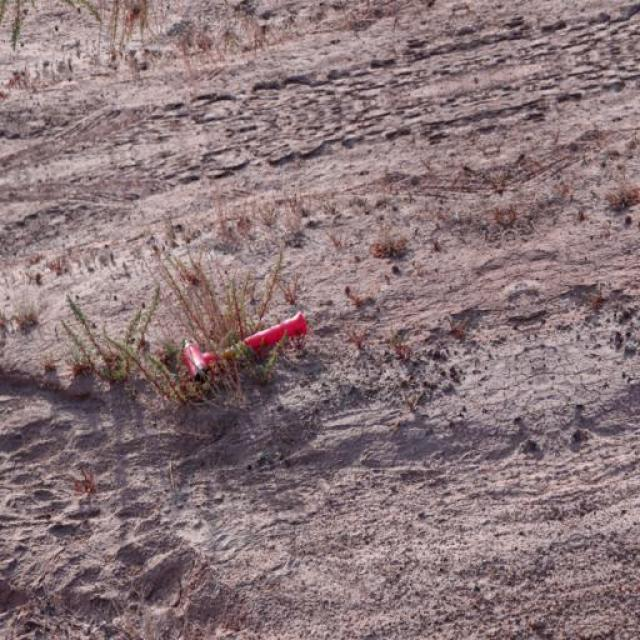mallet: (181, 308, 310, 384)
